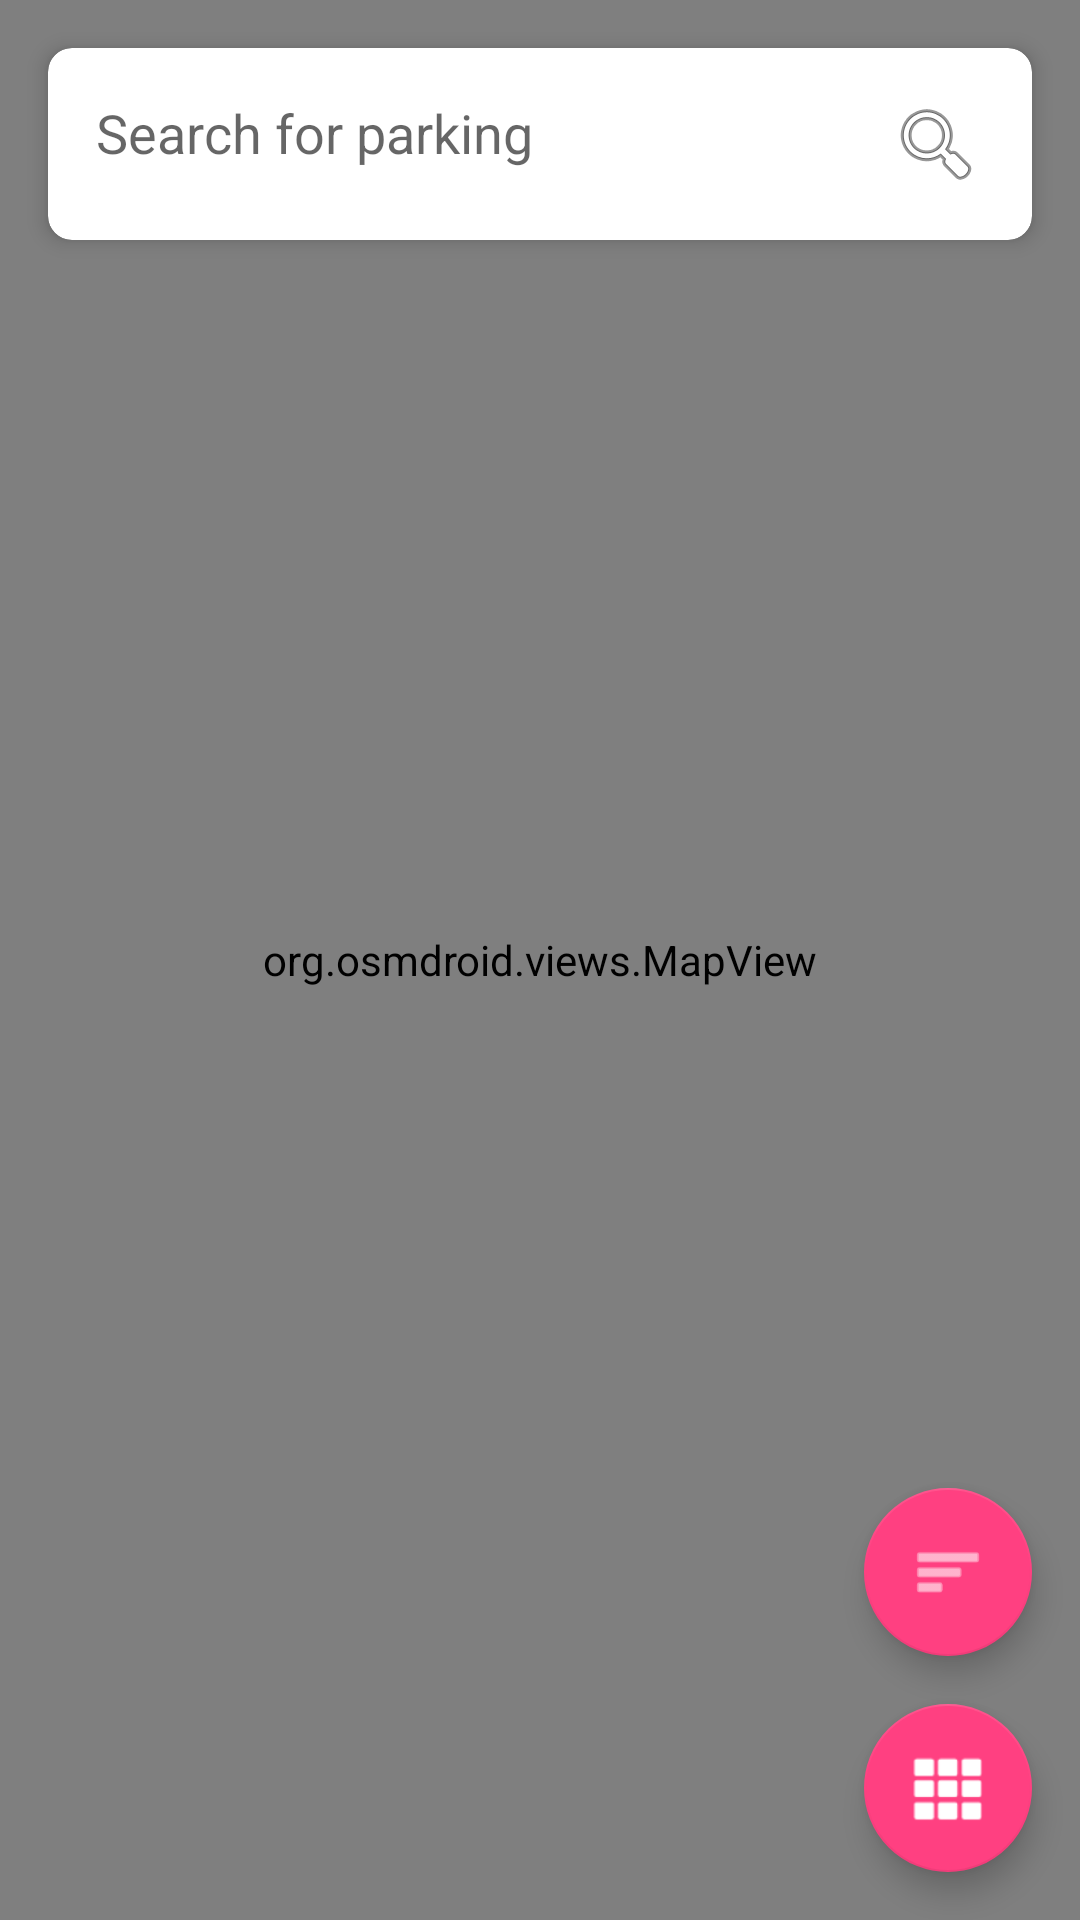

Screen size 1080x1920. Icon name, then its box in pixels as (x1, y1, x2, y2):
Filter: (864, 1488, 1032, 1656)
